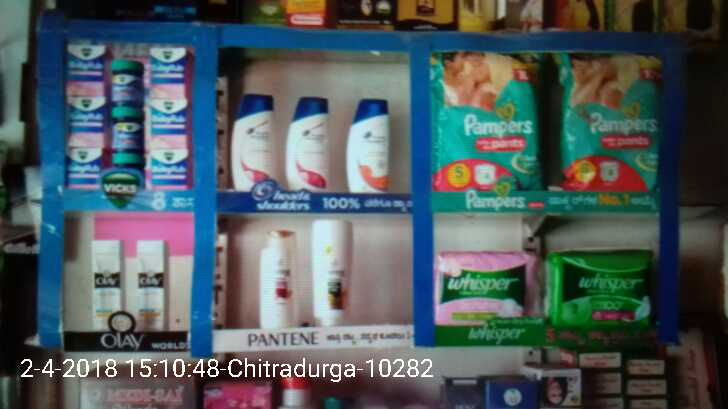vicks: (152, 45, 193, 184), (66, 39, 105, 184), (109, 60, 142, 180)
